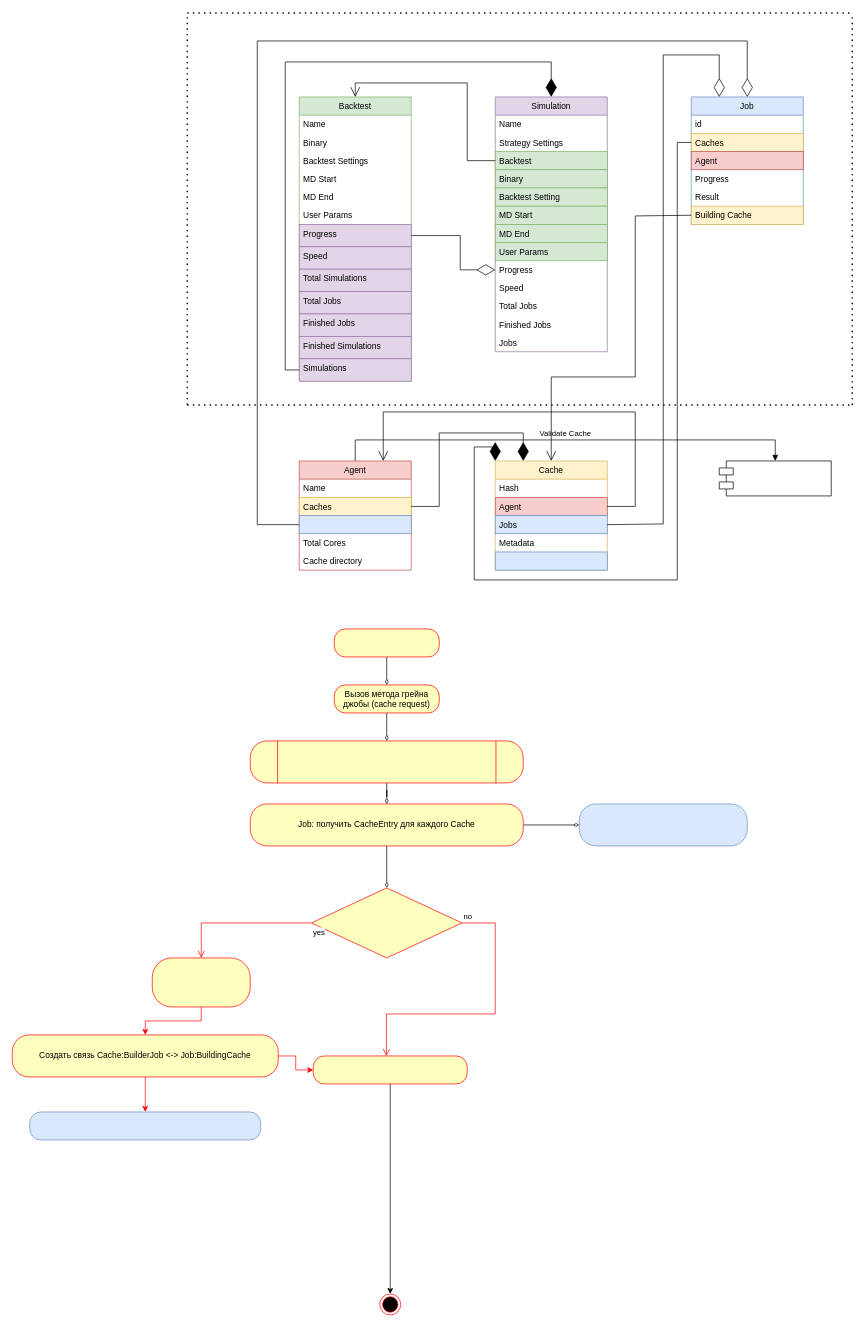
Image size: 866x1327. Some labels were removed from this diagram. Here are the shapes that lost their labels. From the top down, the centre of each, then its label:
At point 775,478: "Agent Server (Observer)".
At point 355,524: "Running jobs".
At point 551,560: "BuilderJob".
At point 386,642: "Controller Call (cache request)".
At point 386,761: "Job: создает Cache Grains. Создается связь Caches-Jobs".
At point 663,824: "Каждый Cache отдает свой CacheEntry".
At point 386,922: "Есть Cache в статусе NotReady/Building".
At point 201,982: "Job: Определить какой кеш будет билдить эта джоба".
At point 390,1069: "Job отдает response со всеми CacheEntry".
At point 145,1125: "Cache Запрашивает директорию для хранения файла кеша у агента".
